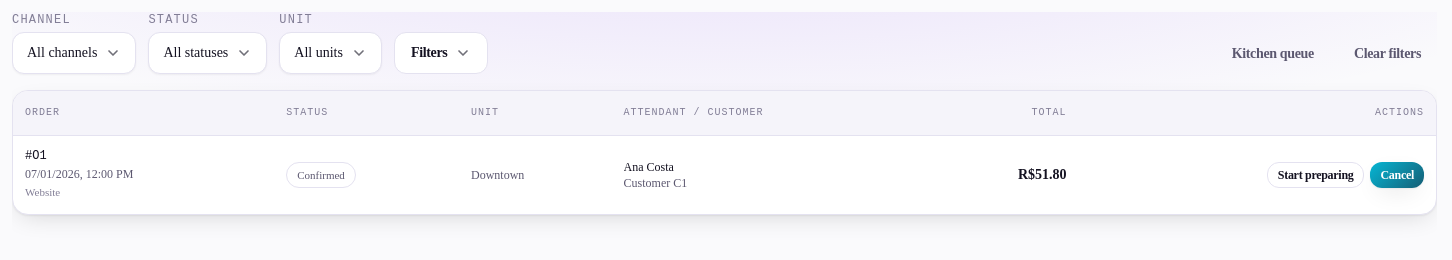
Test: OrderBoard › re-fetches the single order on a 409 conflict instead of blindly retrying
Click the button "Start preparing": [1316, 175] box [1267, 162, 1364, 188]
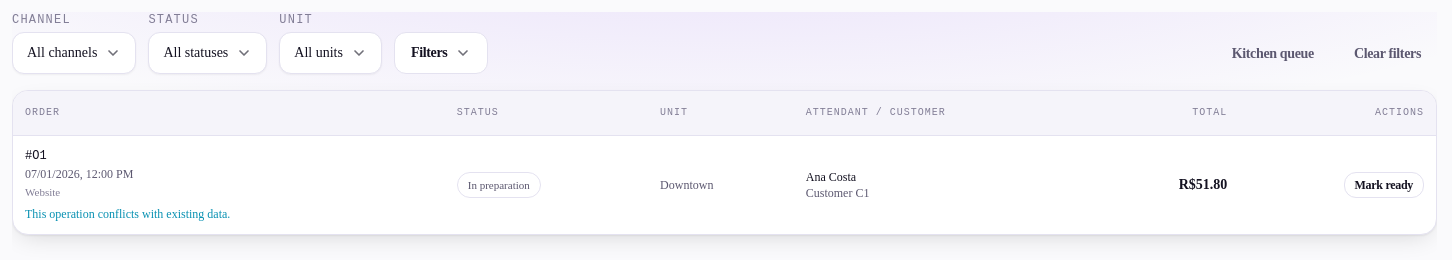
Expected: the text "In preparation" is shown, [457, 172, 541, 198]
